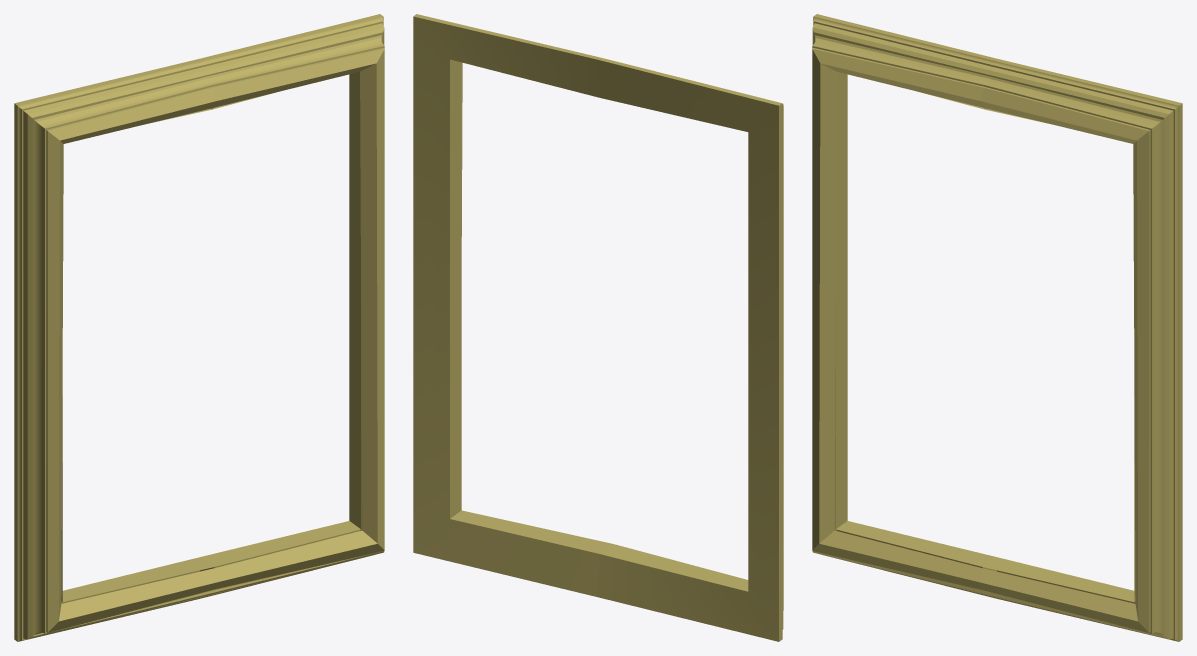
File: moldura1.fbx
3 renders of one model, left to right at view 1: azimuth 30°, elevation 25°; view 2: azimuth 150°, elevation 25°; view 3: azimuth 330°, elevation 25°, orthographic.
Parts seen in each view (by area): view 1: Cube; view 2: Cube; view 3: Cube.
Part boxes in pixels (x1,y1,x2,y2): Cube: [14, 14, 384, 641]; Cube: [413, 14, 783, 641]; Cube: [812, 14, 1182, 641].
Bounding box in the file's own units: 1052 × 1476 × 107.
